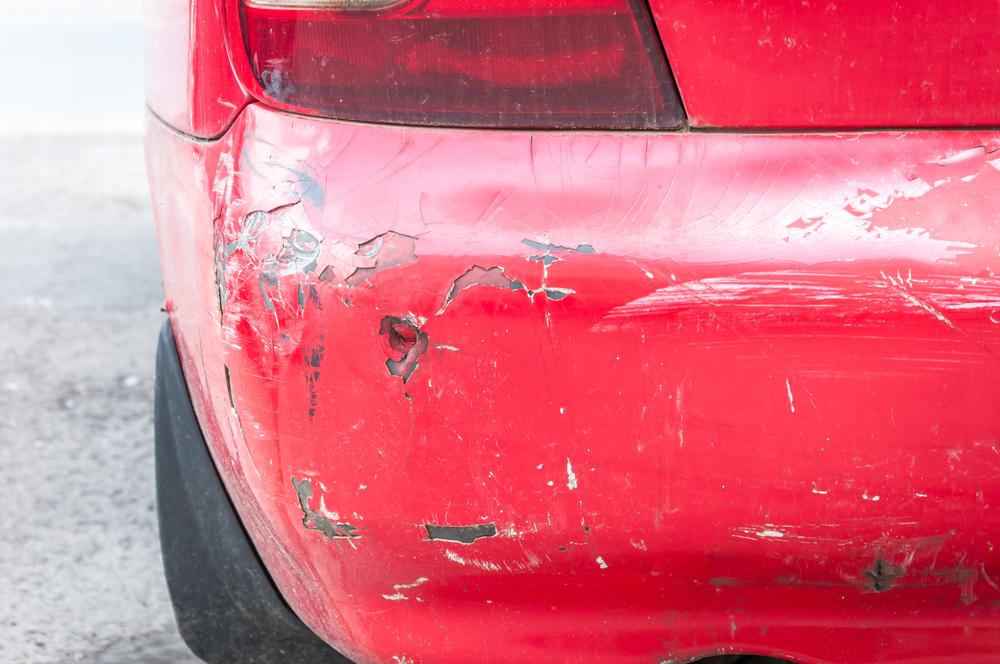scratch: (203, 131, 1000, 616)
